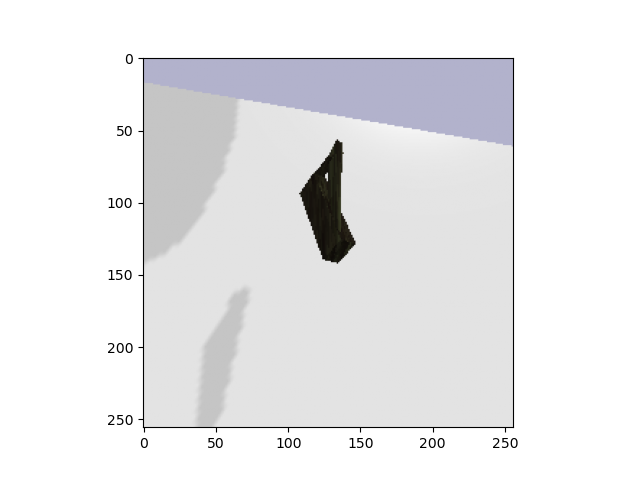v249b387_109: (288, 138, 365, 267)
